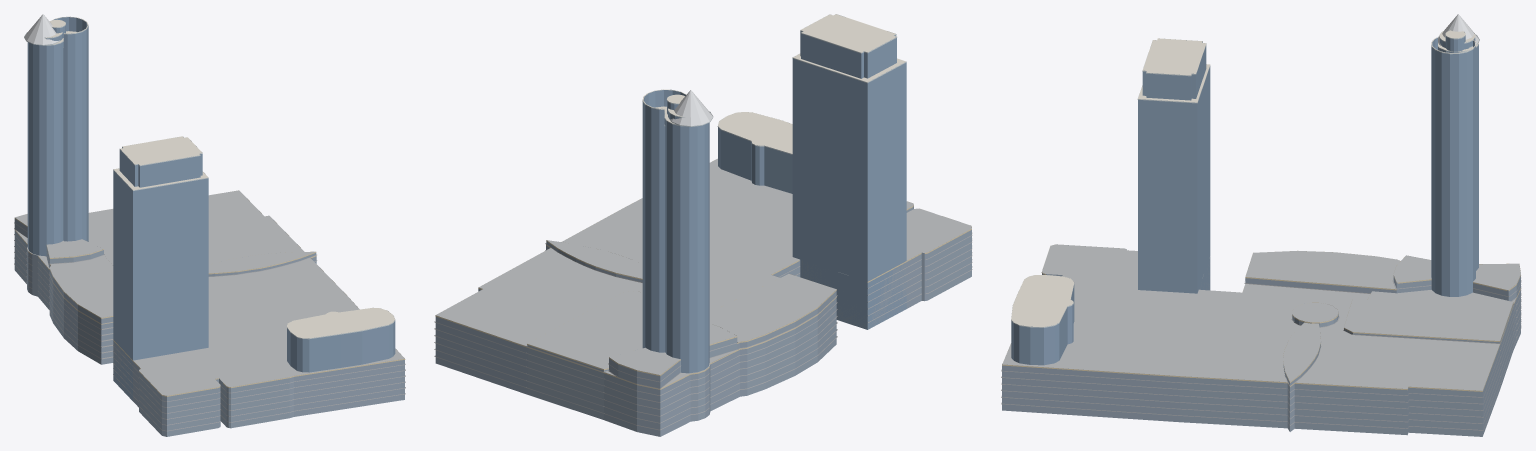
Rendered from centralworld.glb.
3 views of the same model, side by side, from view 1: azimuth 30°, elevation 25°; view 2: azimuth 150°, elevation 25°; view 3: azimuth 270°, elevation 25° (orthographic). The views are drawn at different scales.
Visible parts, largest first — view 1: centralworld; view 2: centralworld; view 3: centralworld.
Part boxes in pixels (x1,y1,x2,y2): centralworld: (14,14,405,436); centralworld: (434,14,972,436); centralworld: (1001,14,1521,436).
Bounding box in the file's own units: 239 × 235 × 358.
